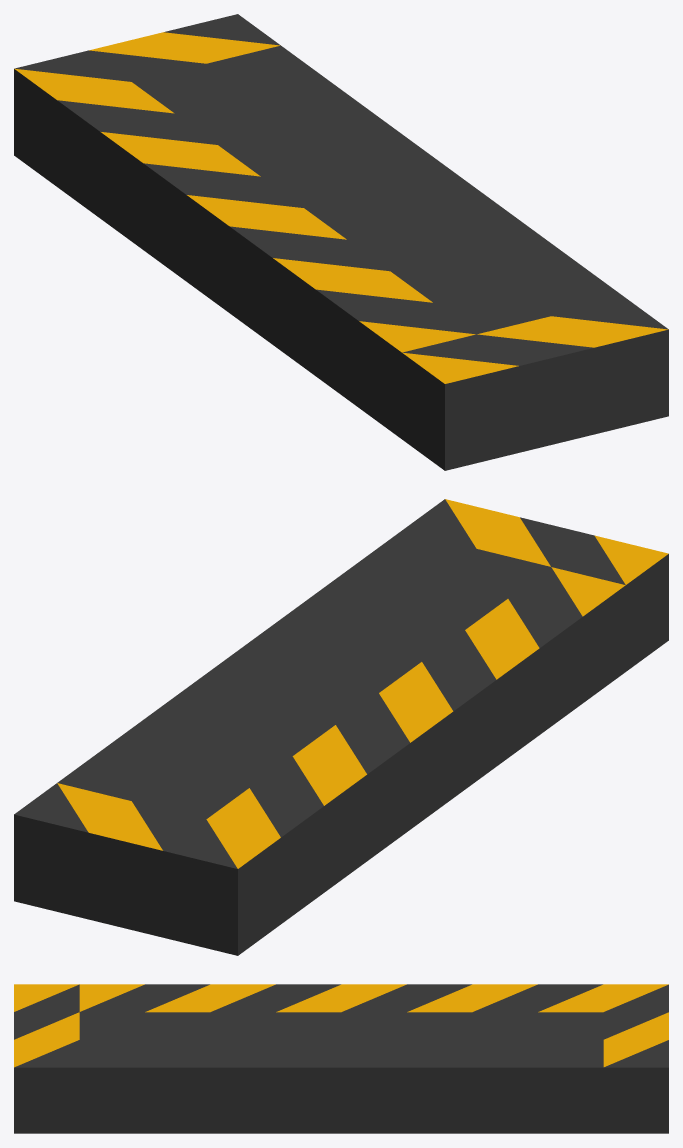
3 renders of one model, top to bottom at view 1: azimuth 30°, elevation 25°; view 2: azimuth 150°, elevation 25°; view 3: azimuth 270°, elevation 25°, orthographic. The views are drawn at different scales.
Visible parts, largest first — view 1: r1; view 2: r1; view 3: r1.
Boxes of the visible parts, box(x1,y1,x2,y2) form: r1: box(14, 14, 668, 470); r1: box(14, 499, 668, 955); r1: box(14, 984, 668, 1133).
Bounding box in the file's own units: 2.7 × 1 × 9.
